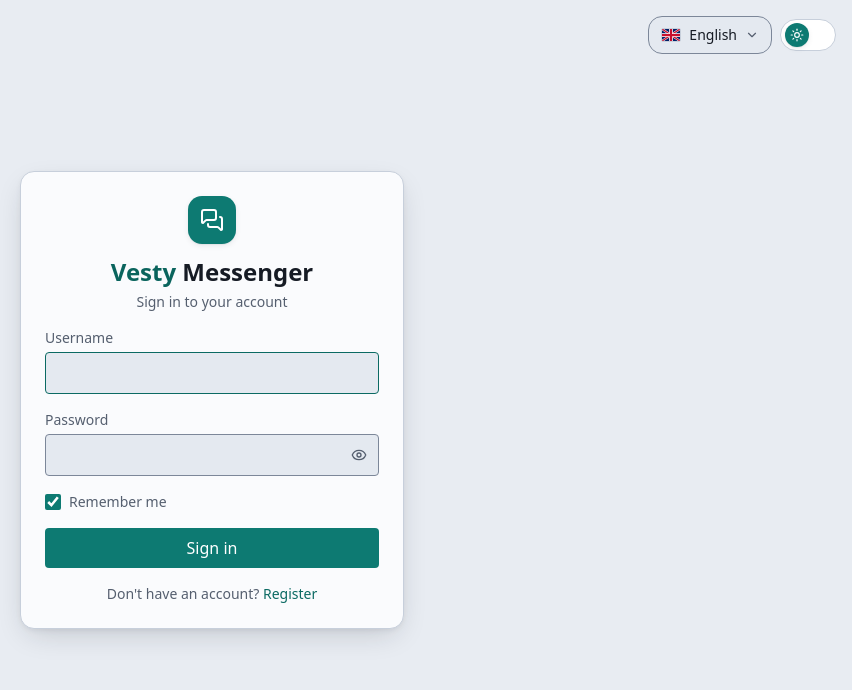
Test: LoginPage › reports a wrong password
Type "petya" into the field labelled "Username" at coordinates (212, 373), box [45,352,379,394]
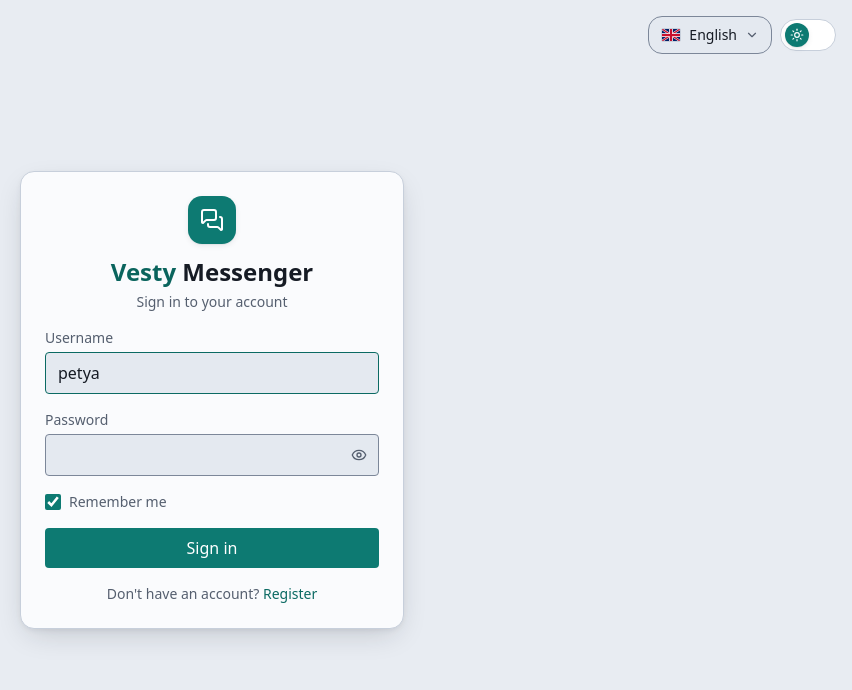
Type "Secret1" into the password field labelled "Password" at coordinates (212, 455), box [45,434,379,476]
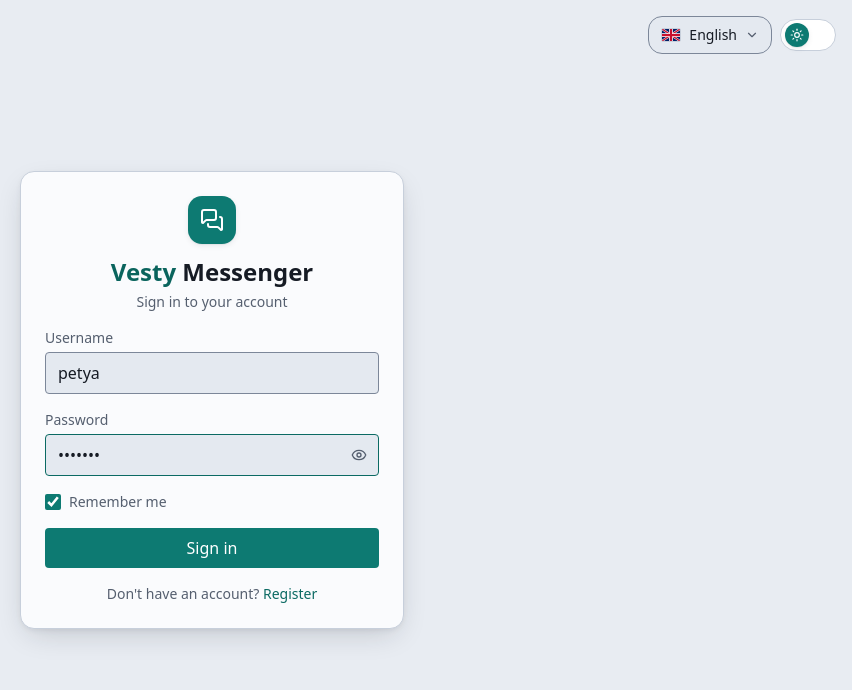
Click the button "Sign in" at coordinates (212, 548), box [45,528,379,568]
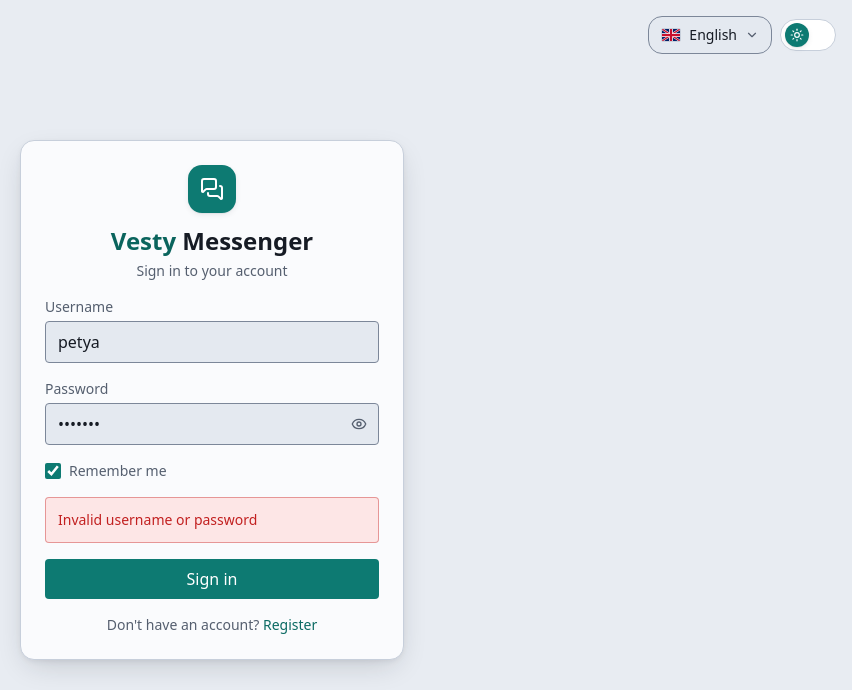
Expected: the text "Invalid username or password" is shown, [45,497,379,543]
